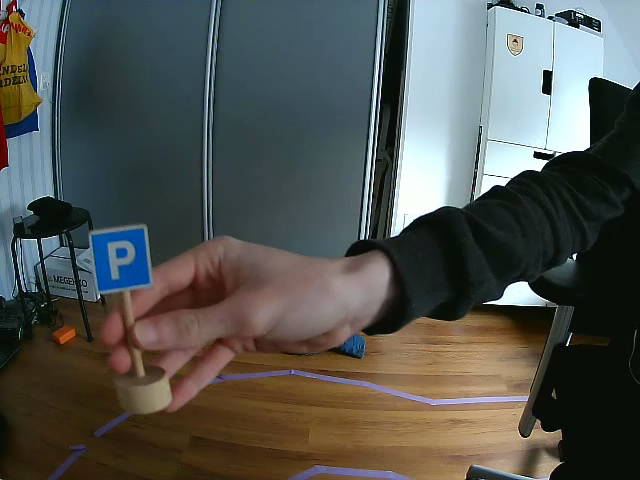parkeerbord: (88, 222, 154, 295)
